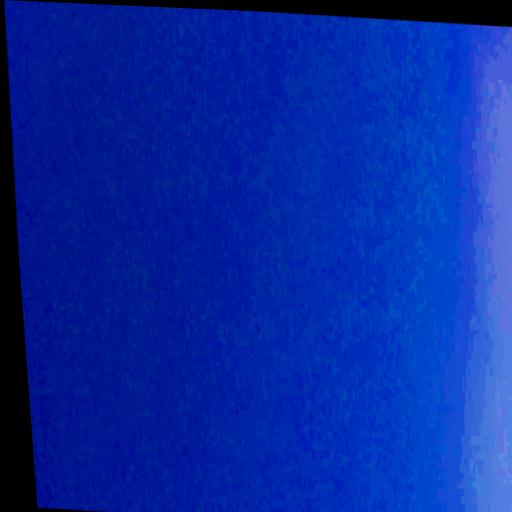drones: (236, 409, 240, 414)
